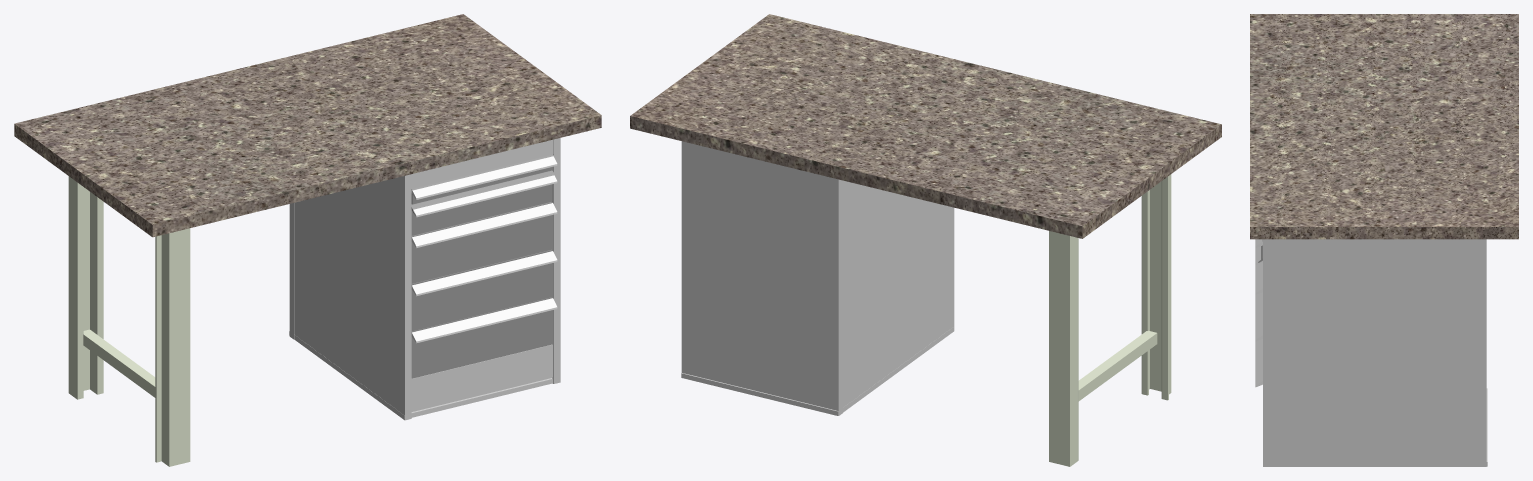
File: PCTableWithDrawers.glb
3 views of the same model, side by side, from view 1: azimuth 30°, elevation 25°; view 2: azimuth 150°, elevation 25°; view 3: azimuth 270°, elevation 25° (orthographic). The views are drawn at different scales.
Parts seen in each view (by area): view 1: computer_table_with_drawer, pCube21, drawer_4, drawer_5, drawer_6, computer_table_leg4, pCube29, pCube11, drawer_3, pCube14_1, pCube14, drawer_1 (+11 smaller); view 2: computer_table_with_drawer, pCube23, pCube21, computer_table_leg3, computer_table_leg4, pCube11, pCube14_1, pCube22, pCube17, pCube11_1, pCube30; view 3: computer_table_with_drawer, pCube22, handler3, handler4.
Boxes of the visible parts, x1,y1,x2,y2 form: computer_table_with_drawer: (14,14,601,237); pCube21: (294,174,411,420); drawer_4: (411,202,552,283); drawer_5: (411,249,552,331); drawer_6: (411,297,552,378); computer_table_leg4: (168,228,189,466); pCube29: (411,344,552,411); pCube11: (68,176,83,399); drawer_3: (411,170,555,235); pCube14_1: (155,233,170,466); pCube14: (90,192,103,394); drawer_1: (411,139,553,188); computer_table_with_drawer: (630,14,1221,238); pCube23: (688,143,843,415); pCube21: (831,178,954,411); computer_table_leg3: (1050,231,1068,466); computer_table_leg4: (1150,174,1171,393); pCube11: (1069,235,1078,466); pCube14_1: (1161,175,1169,400); pCube22: (681,141,688,374); pCube17: (1078,330,1157,401); pCube11_1: (1141,190,1149,395); pCube30: (681,327,953,415); computer_table_with_drawer: (1250,14,1518,239); pCube22: (1263,239,1486,466); handler3: (1255,292,1262,341); handler4: (1255,339,1262,387).
Size of the model in its own units: 1.5 by 0.8413 by 0.8.
6 materials, 1 textured.
